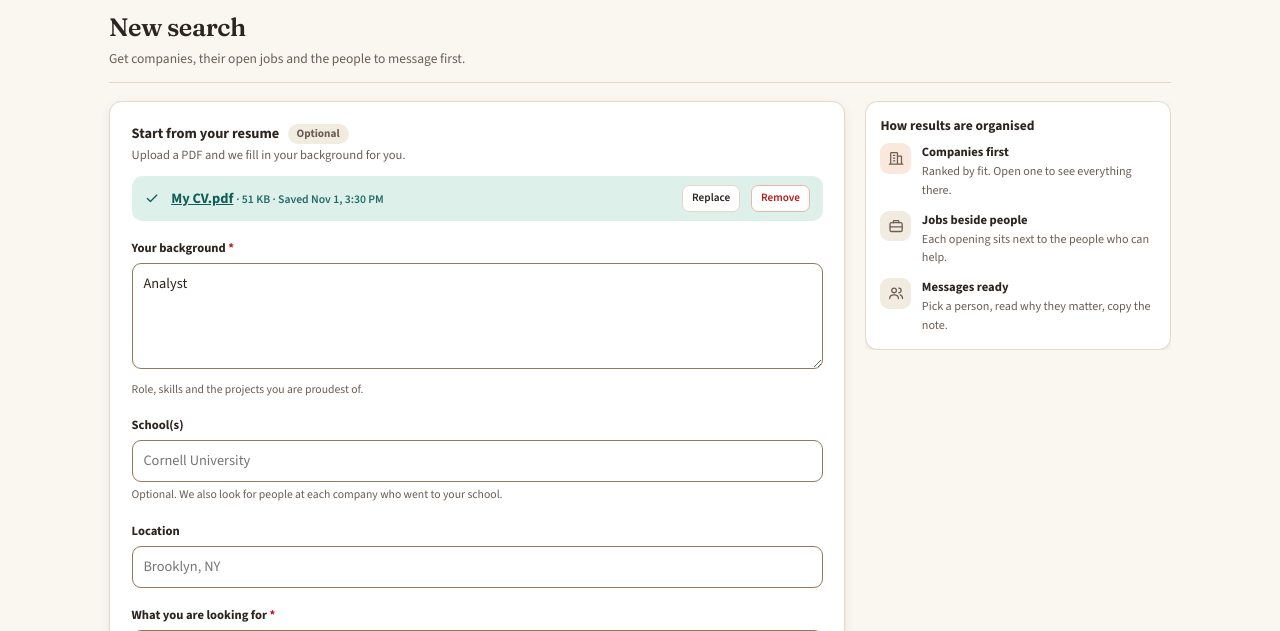
Scenario: saved resume chip › keeps the chip and shows an error if removing fails
Click the button "Remove" at (781, 198), box [751,185,810,212]
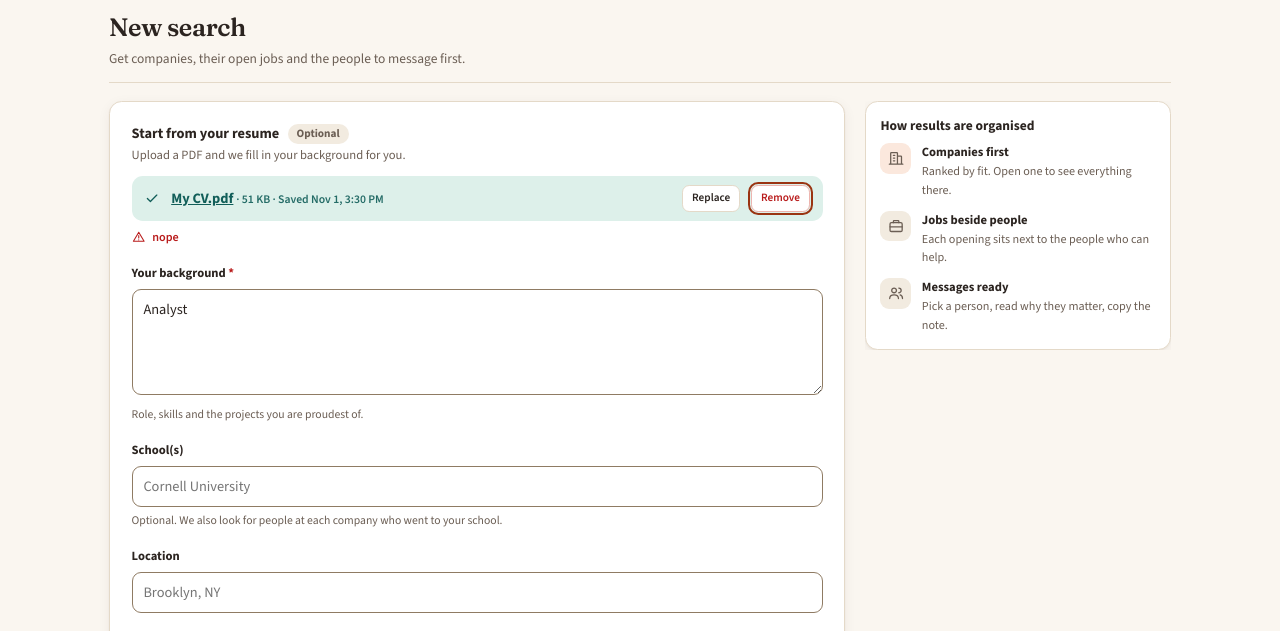
Check: the message reads "nope", box [152,229,179,245]
